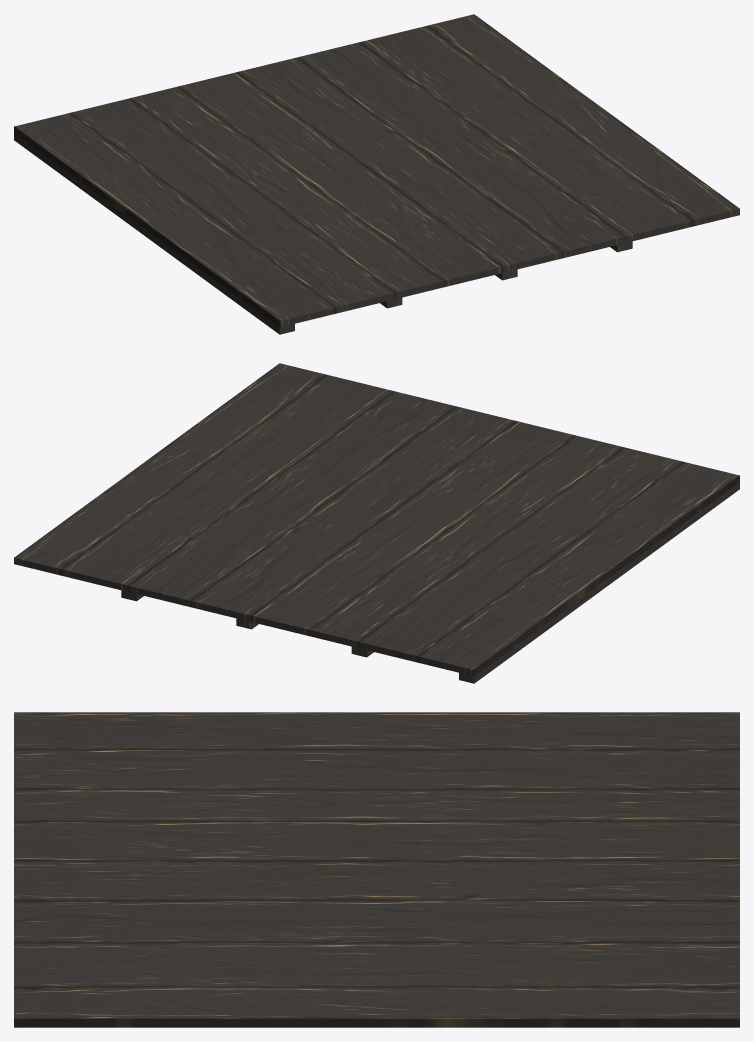
Rendered from Wooden_PLanks_3x3.FBX.
3 renders of one model, top to bottom at view 1: azimuth 30°, elevation 25°; view 2: azimuth 150°, elevation 25°; view 3: azimuth 270°, elevation 25°, orthographic. The views are drawn at different scales.
Parts seen in each view (by area): view 1: Wooden_PLanks_3x3; view 2: Wooden_PLanks_3x3; view 3: Wooden_PLanks_3x3.
Part boxes in pixels (left/top/right/bottom): Wooden_PLanks_3x3: left=14, top=14, right=739, bottom=334; Wooden_PLanks_3x3: left=14, top=363, right=739, bottom=683; Wooden_PLanks_3x3: left=14, top=712, right=739, bottom=1027.
Bounding box in the file's own units: 300 × 8.56 × 300.
